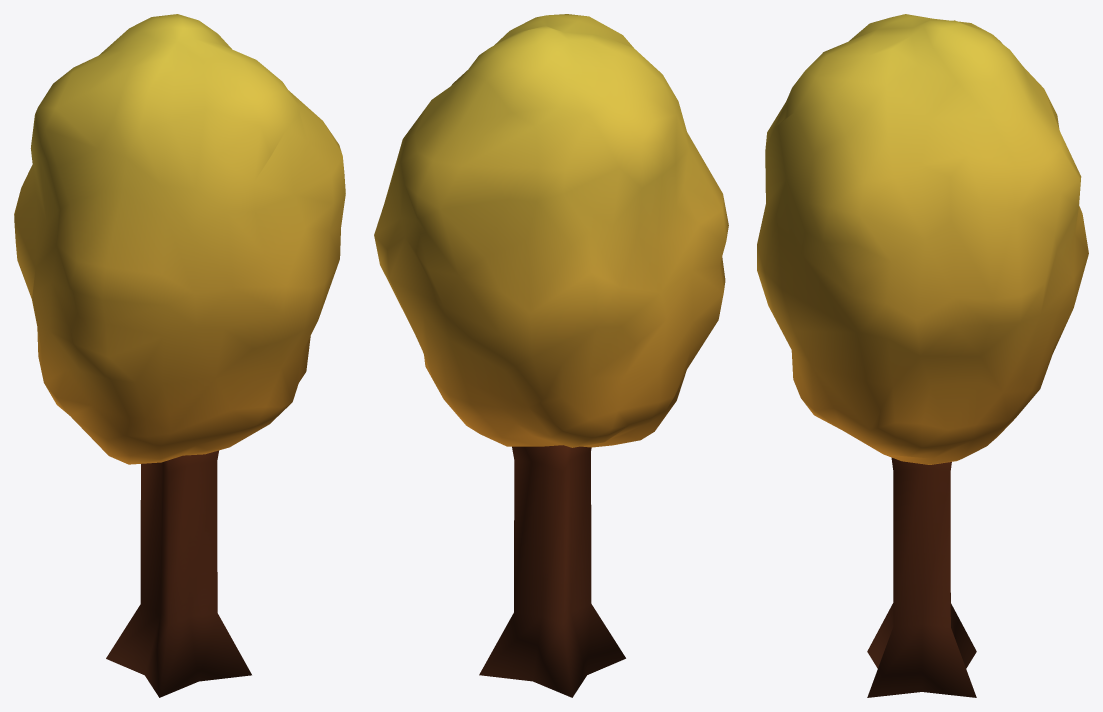
The model's file is AutumnTree2.fbx.
3 renders of one model, left to right at view 1: azimuth 30°, elevation 25°; view 2: azimuth 150°, elevation 25°; view 3: azimuth 270°, elevation 25°, orthographic. The views are drawn at different scales.
Visible parts, largest first — view 1: Plane.002, Plane.003; view 2: Plane.002, Plane.003; view 3: Plane.002, Plane.003.
Boxes of the visible parts, <box> form: Plane.002: <box>14,14,345,464</box>; Plane.003: <box>106,450,251,697</box>; Plane.002: <box>374,14,728,447</box>; Plane.003: <box>479,445,625,697</box>; Plane.002: <box>757,14,1088,464</box>; Plane.003: <box>867,457,976,697</box>.
Size of the model in its own units: 294 by 618 by 285.
